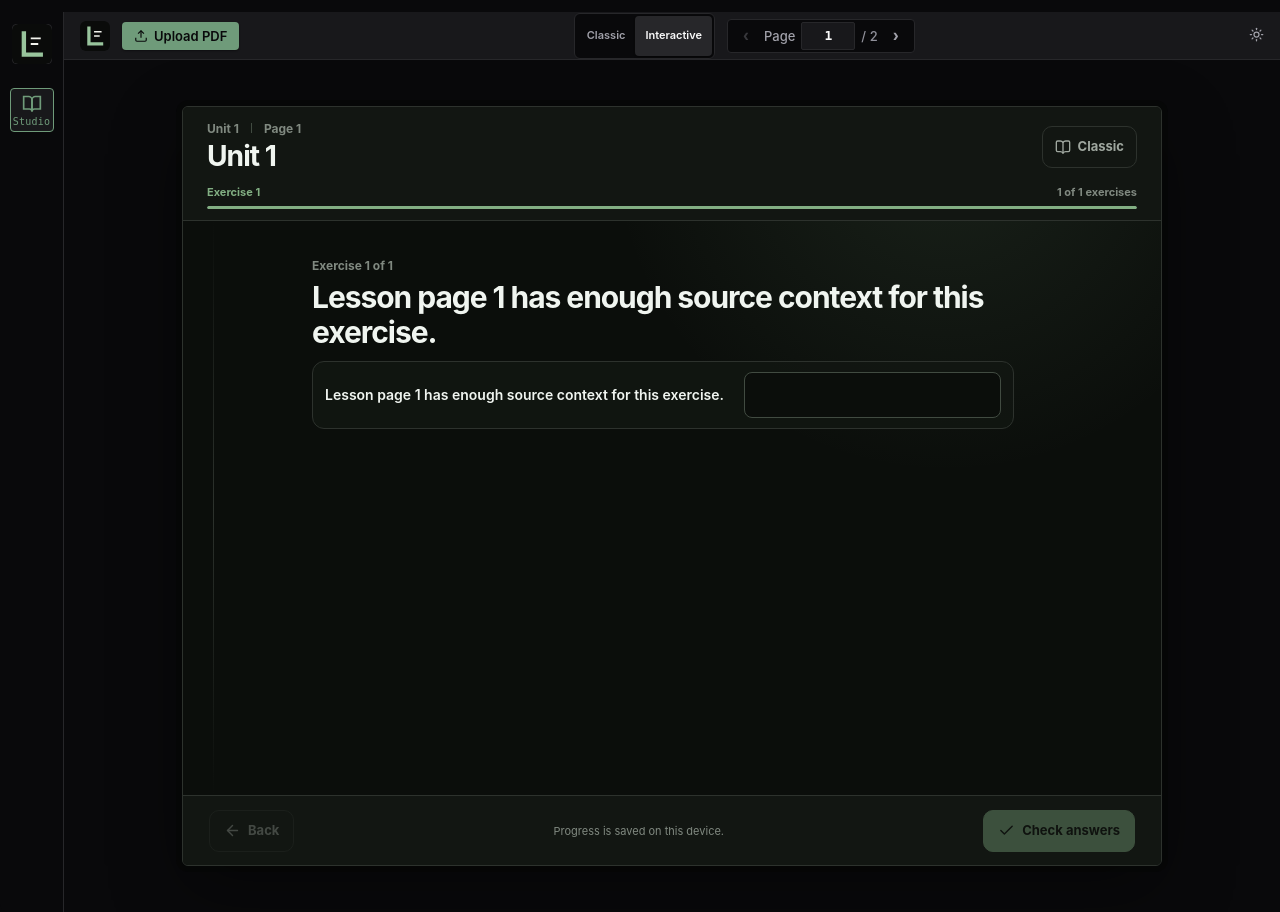
Scenario: request recovery and correction isolation › clears old correction authority before navigating to a new page
Type "answer" into the field named "answer for" at [873, 395], box [744,372,1001,418]
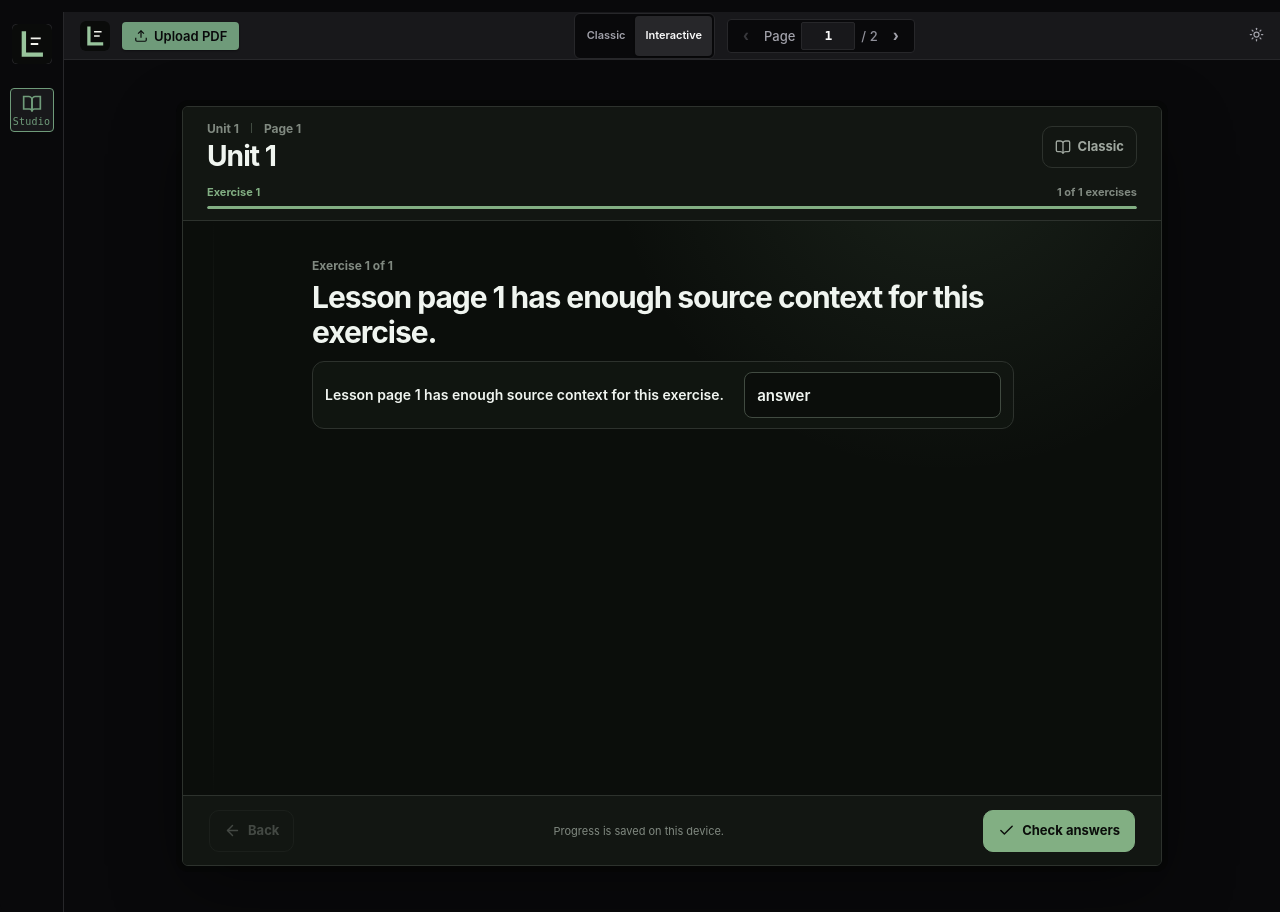
Expected: the button "Check answers" is enabled, [983,810,1135,852]
Press the mouse on the button named "Next Page" at [896, 36], box [882,22,910,50]
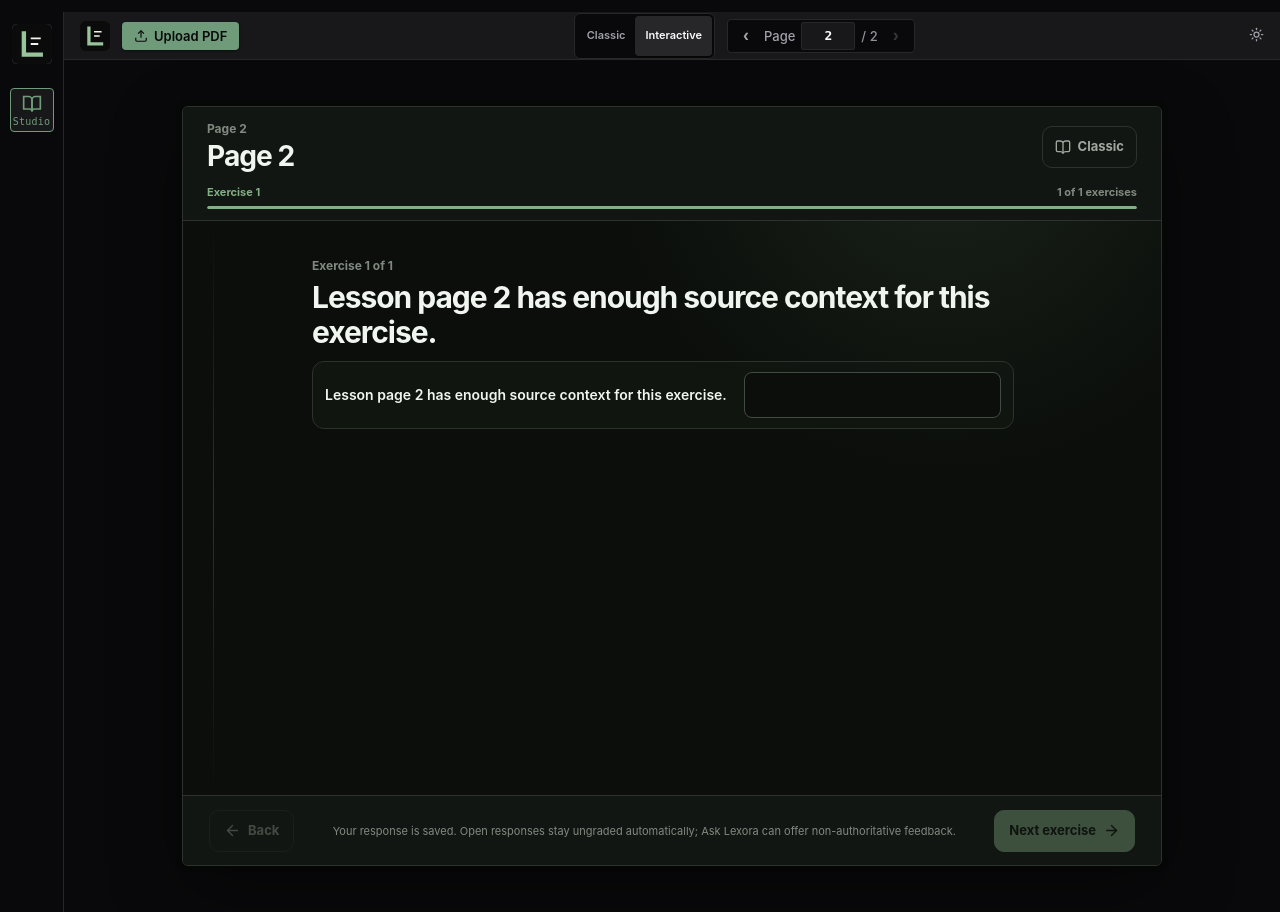
Expected: the number field named "Go to page, currently page 2 of 2" holds "2", [801,22,855,50]
Type "answer" into the field named "answer for" at [873, 395], box [744,372,1001,418]
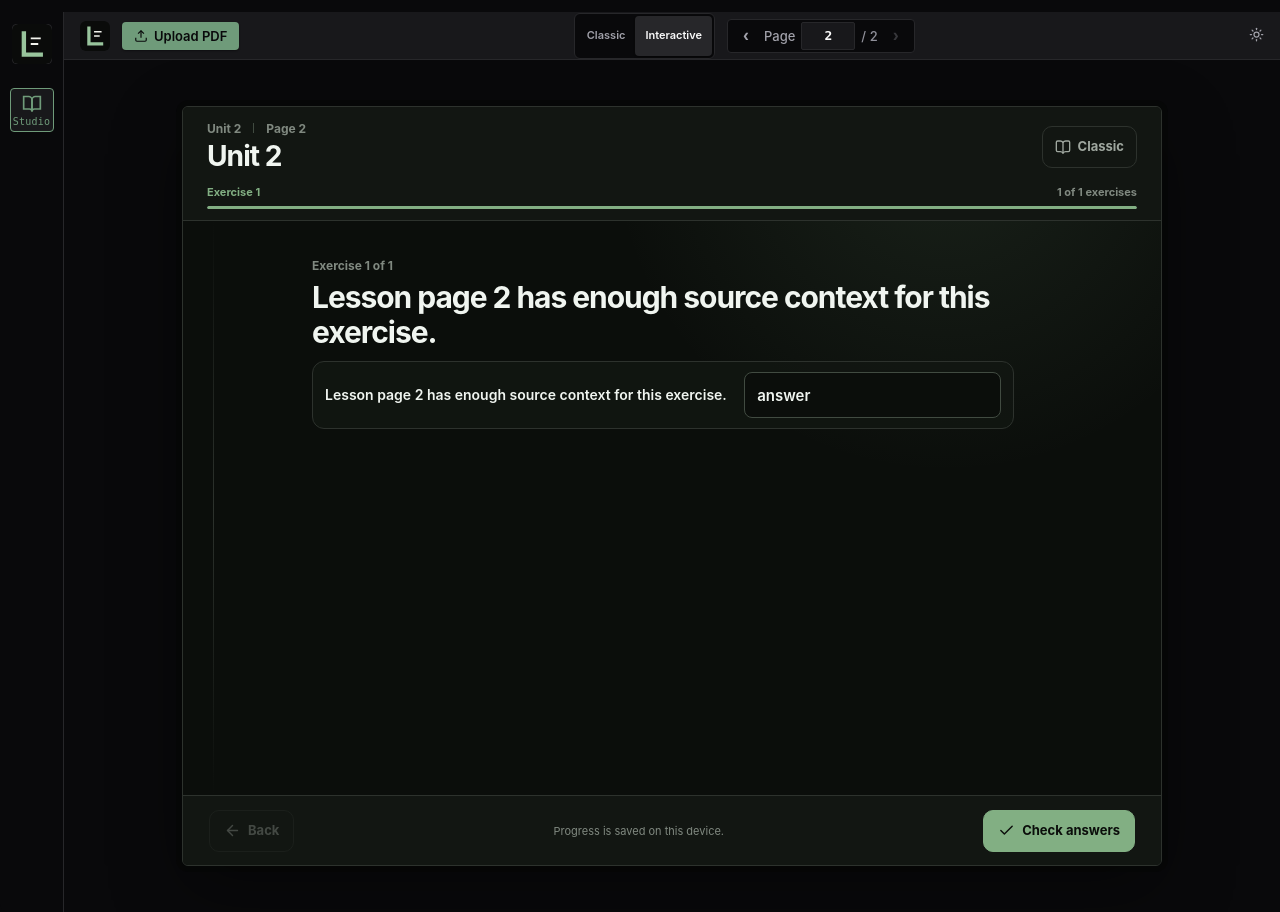
Expected: the button "Check answers" is enabled, [983,810,1135,852]
